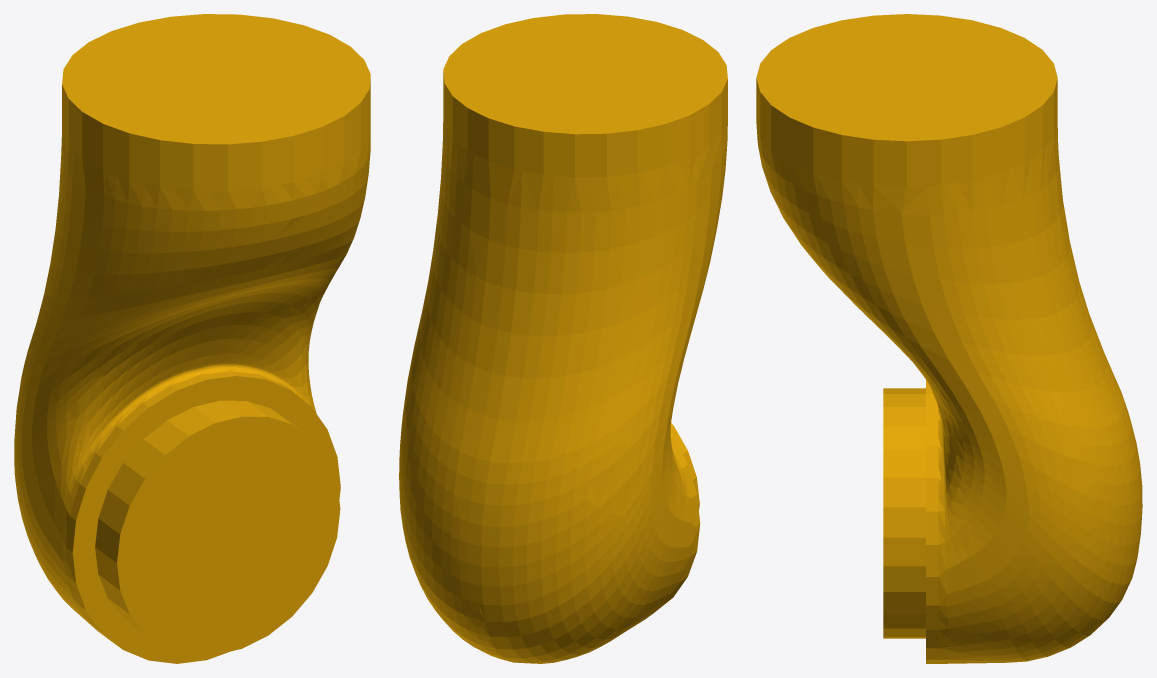
The picture shows the model from 3 angles, left to right: view 1: azimuth 30°, elevation 25°; view 2: azimuth 150°, elevation 25°; view 3: azimuth 270°, elevation 25°; orthographic projection. The views are drawn at different scales.
Parts seen in each view (by area): view 1: link_2; view 2: link_2; view 3: link_2.
Part boxes in pixels (bbox=[...]): link_2: bbox=[14, 14, 370, 663]; link_2: bbox=[399, 14, 727, 663]; link_2: bbox=[756, 14, 1142, 663].
Size of the model in its own units: 0.12 by 0.1538 by 0.2515.
